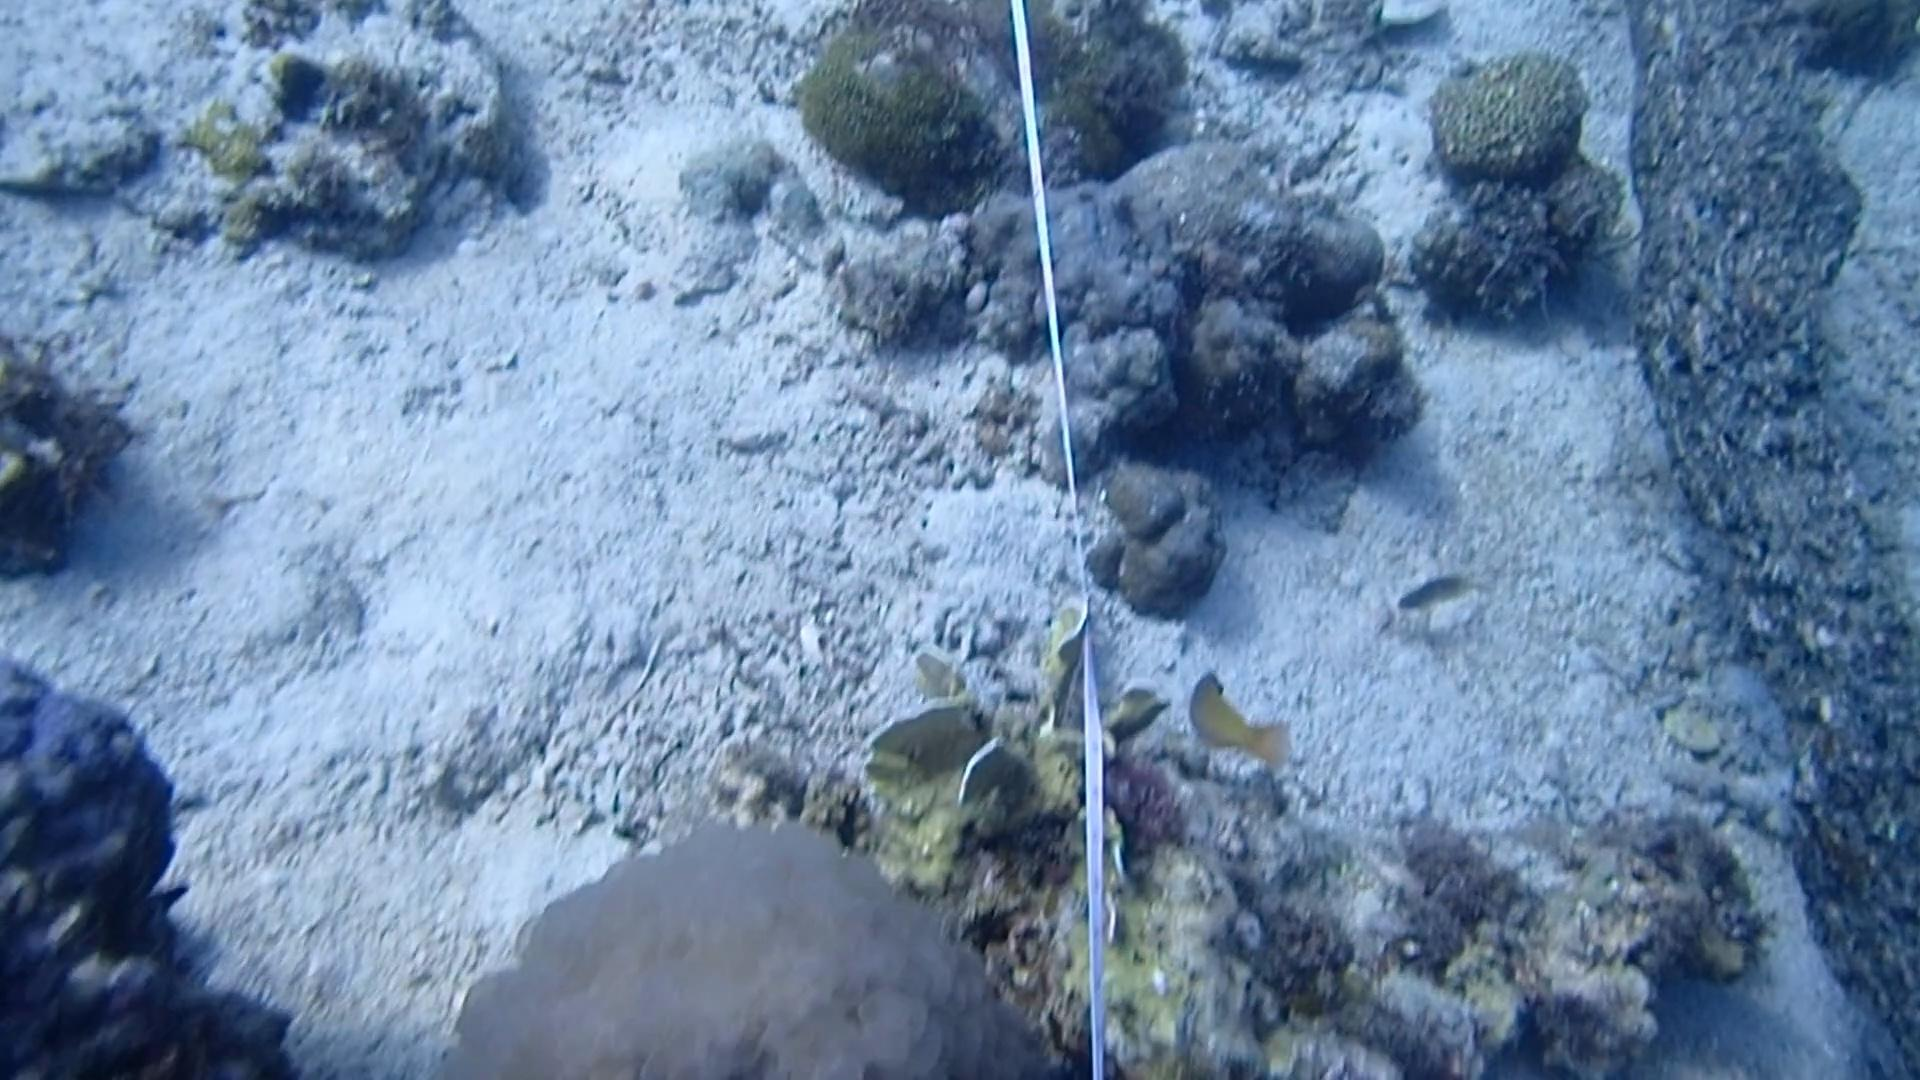Light Fish: (1391, 556, 1481, 622)
Yellow-Blue Fish: (1164, 661, 1305, 773)
